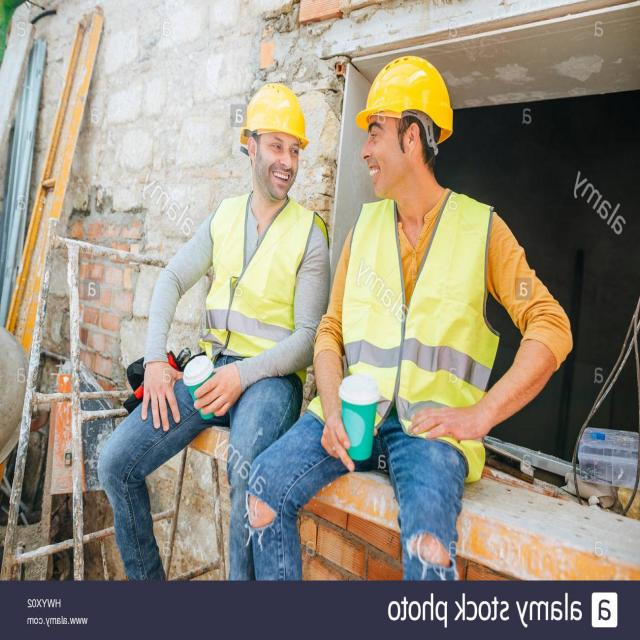Reflective-Jacket: (331, 188, 503, 471), (196, 192, 328, 378)
Safety-Helmet: (353, 51, 456, 140), (238, 77, 312, 144)
